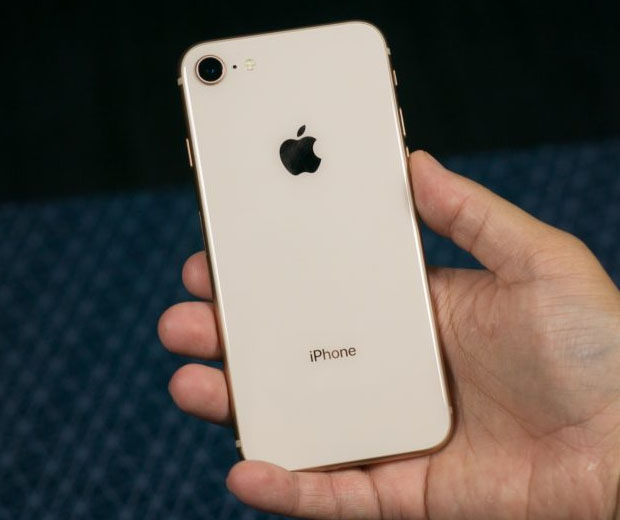apple: (256, 118, 343, 181)
